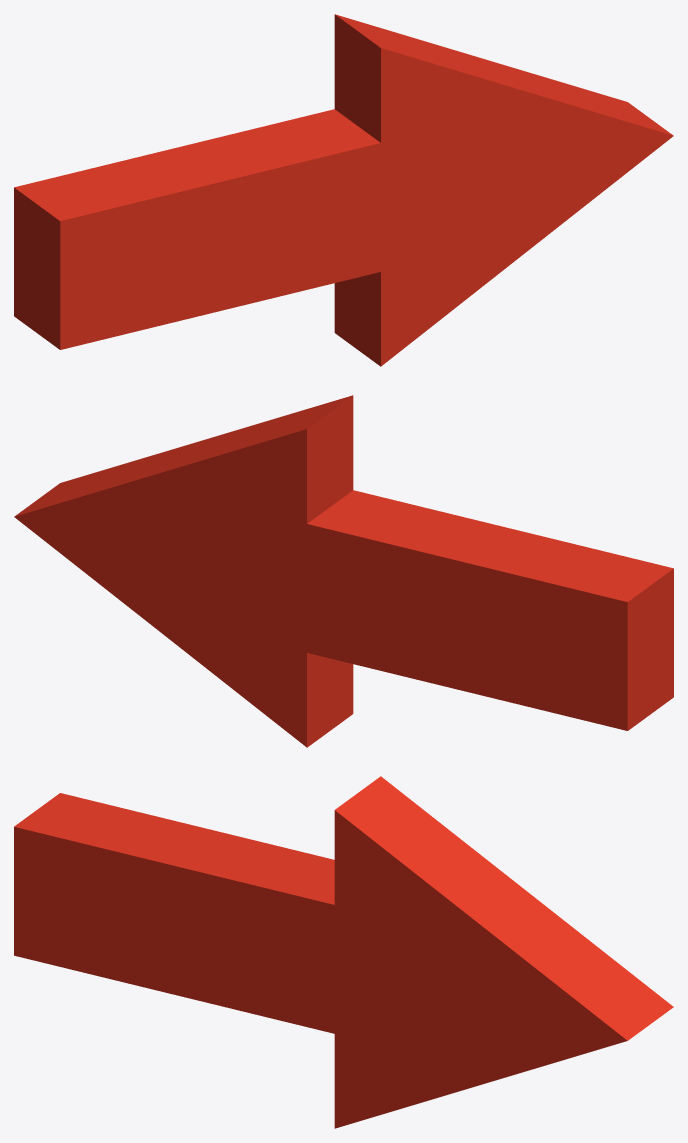
The model's file is Icon_Arrow_01.fbx.
3 renders of one model, top to bottom at view 1: azimuth 30°, elevation 25°; view 2: azimuth 150°, elevation 25°; view 3: azimuth 330°, elevation 25°, orthographic.
Parts seen in each view (by area): view 1: Icon_Arrow_01; view 2: Icon_Arrow_01; view 3: Icon_Arrow_01.
Boxes of the visible parts, <box> form: Icon_Arrow_01: <box>14,14,673,366</box>; Icon_Arrow_01: <box>14,395,673,747</box>; Icon_Arrow_01: <box>14,776,673,1128</box>.
Bounding box in the file's own units: 92.54 × 45.92 × 12.06.
